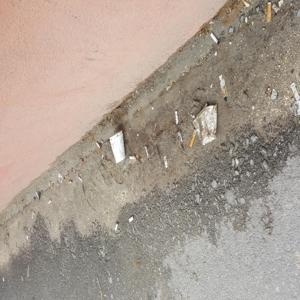cardboard: (105, 127, 137, 173)
plastic: (188, 103, 222, 148)
